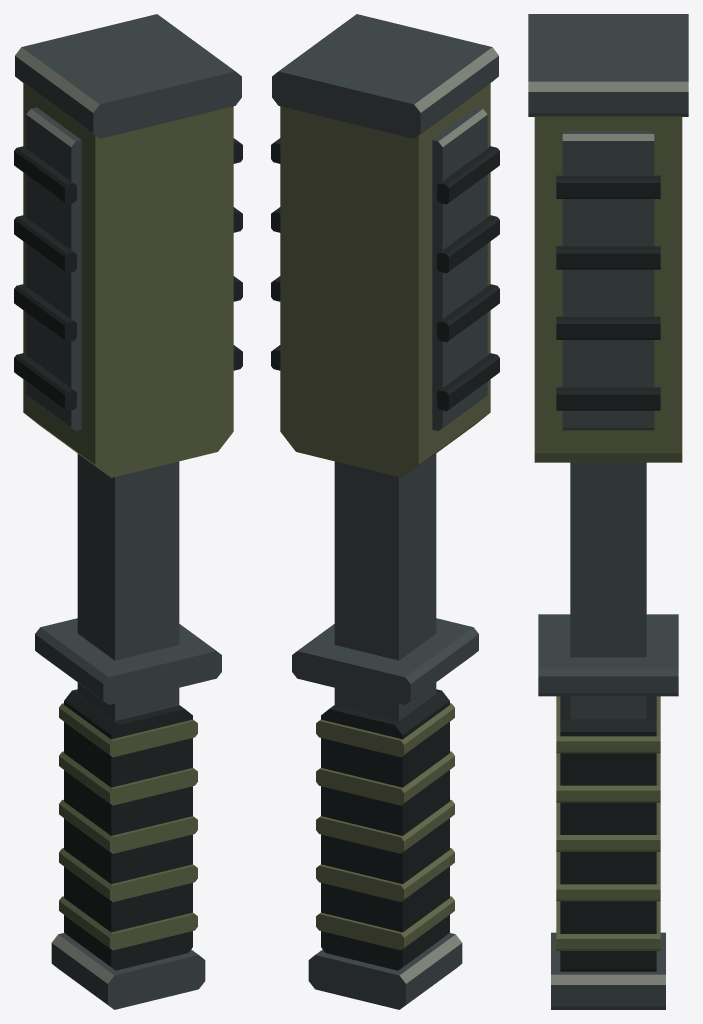
The model's file is Club.gltf.
3 views of the same model, side by side, from view 1: azimuth 30°, elevation 25°; view 2: azimuth 150°, elevation 25°; view 3: azimuth 270°, elevation 25° (orthographic). The views are drawn at different scales.
Visible parts, largest first — view 1: Club; view 2: Club; view 3: Club.
Boxes of the visible parts, x1,y1,x2,y2 form: Club: (14, 14, 242, 1009); Club: (271, 14, 499, 1009); Club: (528, 14, 688, 1009).
Bounding box in the file's own units: 0.135 × 0.667 × 0.103.
